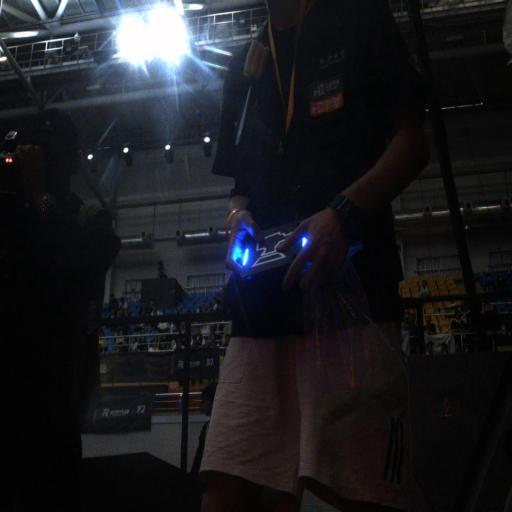target: (237, 223, 311, 278)
